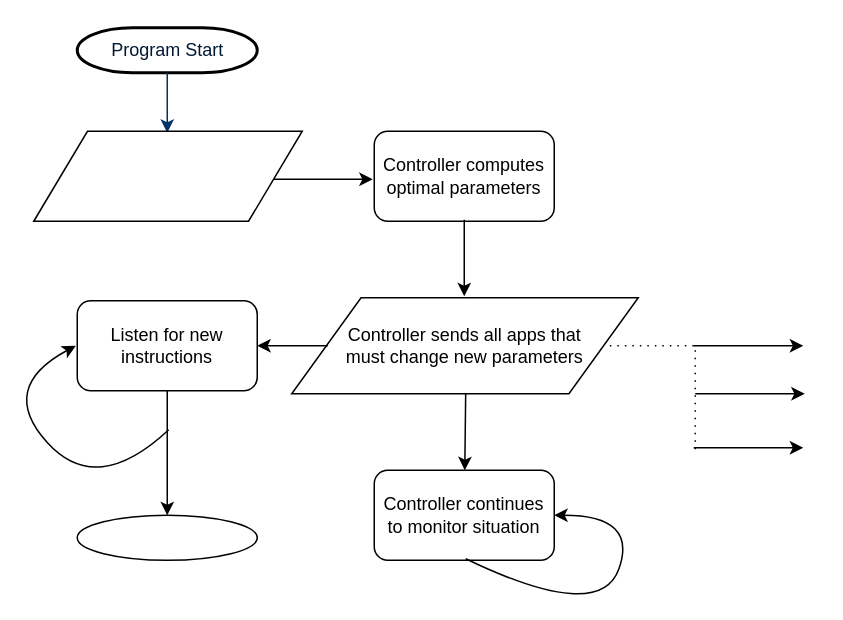
Image size: 843x620. Some labels were removed from this diagram. Here are the shapes that lost their labels. From the top down, the centre of each, then its label:
At (x=167, y=175): "Contact controller for instructions".
At (x=166, y=537): "End".
